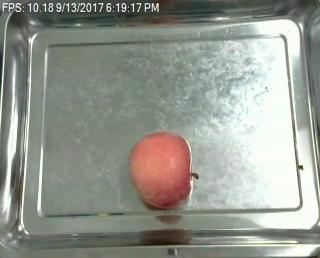apple: (128, 132, 199, 211)
